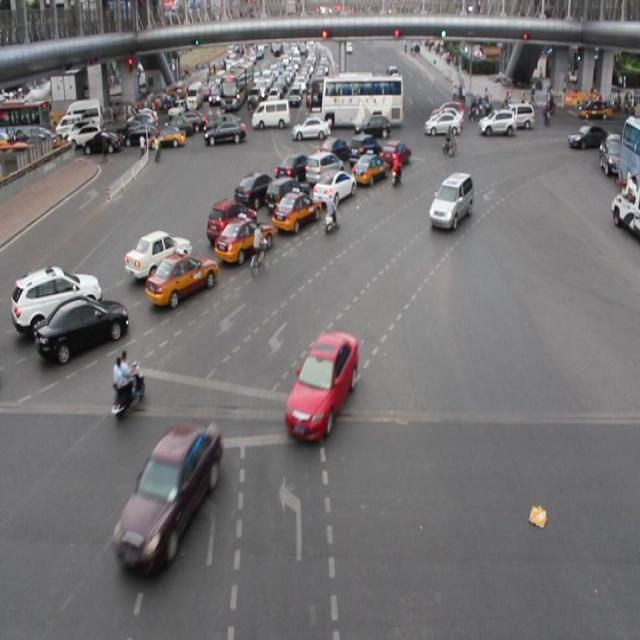car: (120, 426, 218, 553), (287, 328, 356, 438), (14, 266, 103, 336), (35, 297, 128, 356), (145, 252, 216, 304), (122, 233, 191, 277), (215, 215, 275, 261), (429, 175, 475, 232), (205, 198, 257, 244), (272, 190, 319, 232), (265, 174, 307, 215), (312, 170, 356, 208), (274, 154, 314, 191), (236, 172, 273, 208), (306, 150, 343, 185), (344, 134, 379, 169), (351, 149, 386, 183), (317, 136, 351, 167), (380, 139, 413, 168)
